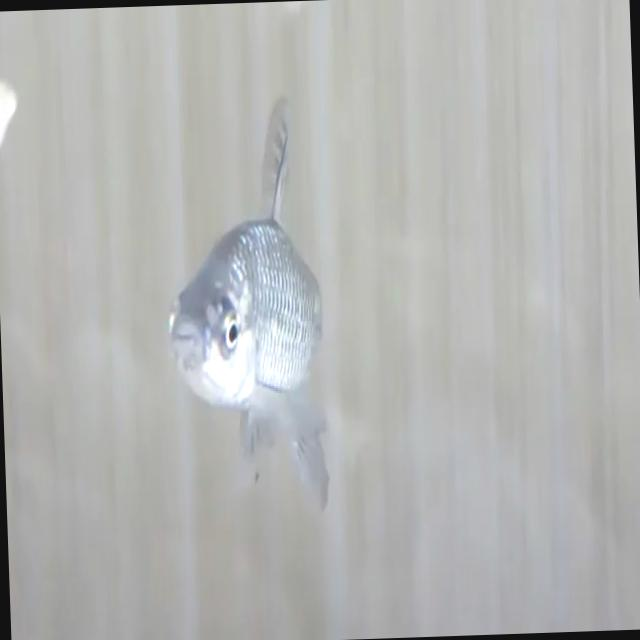Cakil Baligi: (158, 89, 338, 518)
